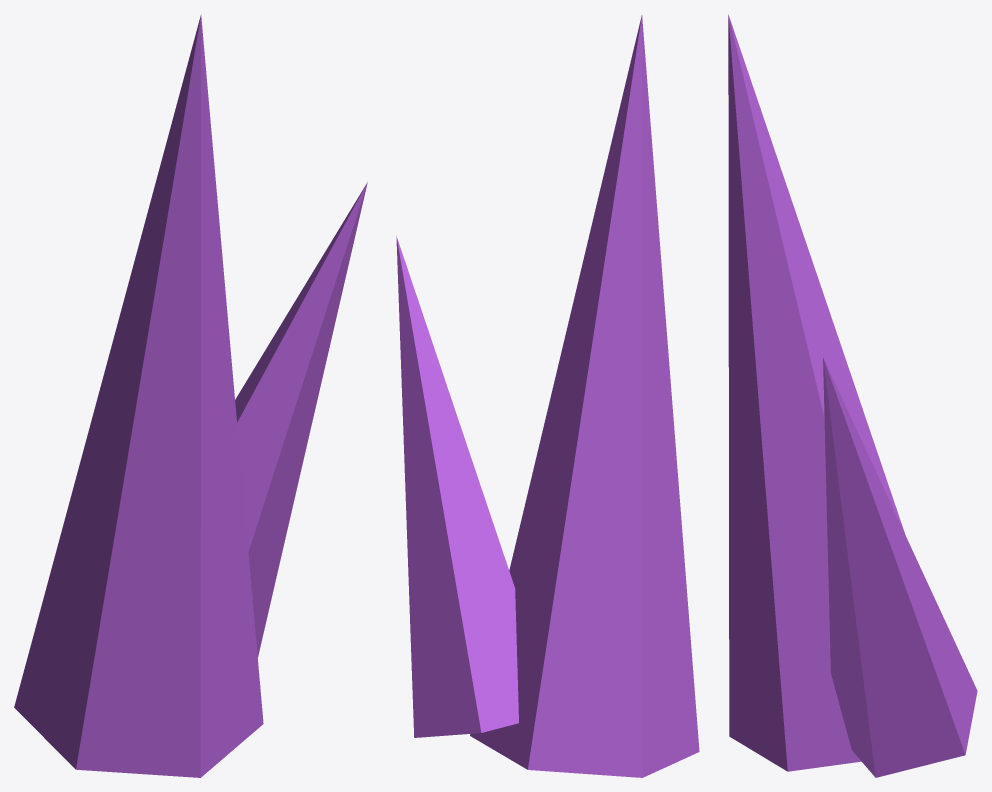
File: crystal_ball.glb
The picture shows the model from 3 angles, left to right: view 1: azimuth 30°, elevation 25°; view 2: azimuth 150°, elevation 25°; view 3: azimuth 270°, elevation 25°; orthographic projection. The views are drawn at different scales.
Parts seen in each view (by area): view 1: crystal_cluster; view 2: crystal_cluster; view 3: crystal_cluster.
Part boxes in pixels (box(x1,y1,x2,y2)): crystal_cluster: box(14, 14, 367, 777); crystal_cluster: box(396, 15, 699, 777); crystal_cluster: box(728, 14, 977, 777).
Bounding box in the file's own units: 1.72 × 4.04 × 1.26.
